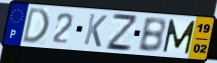2: (51, 12, 75, 45)
B: (136, 17, 167, 54)
D: (21, 6, 51, 45)
K: (82, 12, 109, 49)
M: (162, 18, 197, 55)
Z: (105, 12, 139, 53)
